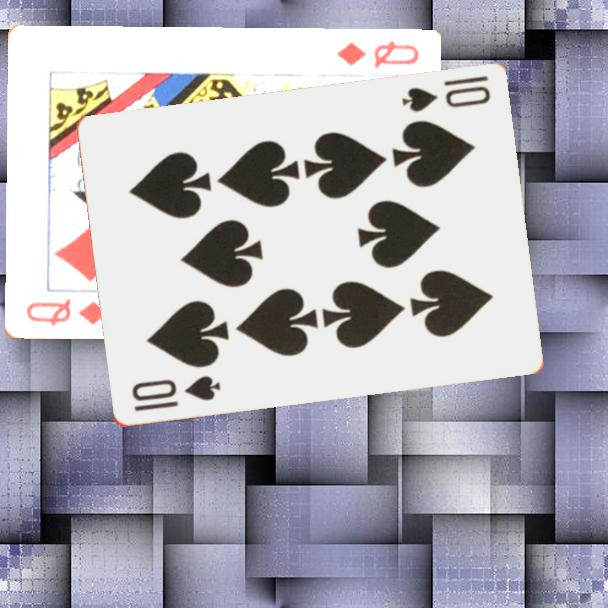d12: (22, 295, 111, 329), (332, 38, 421, 72)
s10: (398, 72, 493, 116), (127, 372, 223, 415)
